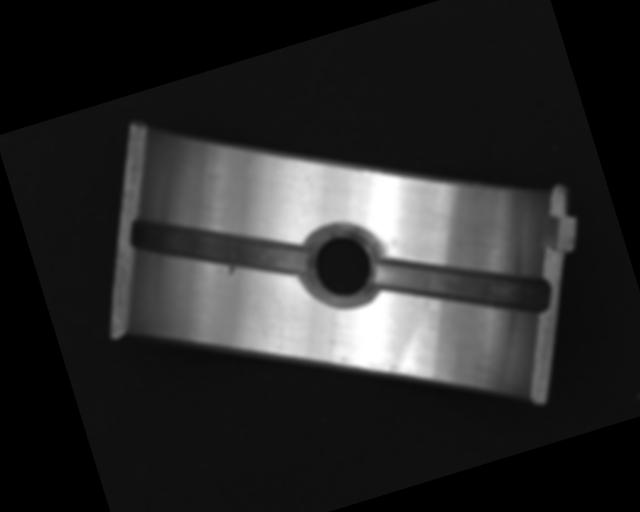bruise: (225, 263, 240, 278)
gap: (127, 176, 310, 319), (370, 217, 554, 356)
hole: (296, 218, 388, 315)
